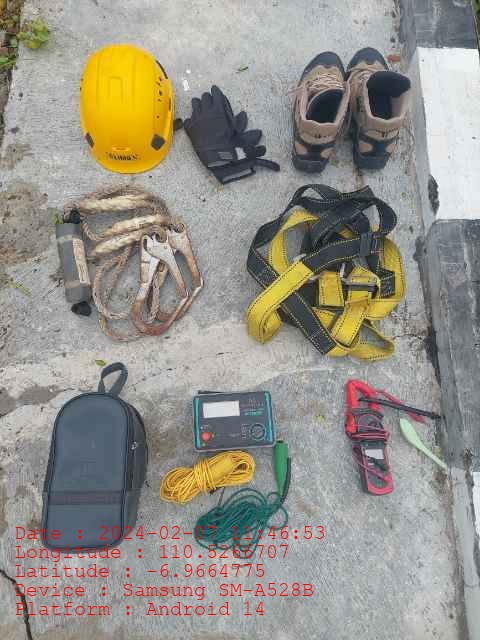HELM: (80, 43, 174, 174)
SARUNG_TANGAN: (181, 85, 248, 169)
SEPATU: (292, 50, 410, 173)
TAMBANG_SLING: (56, 184, 202, 342)
